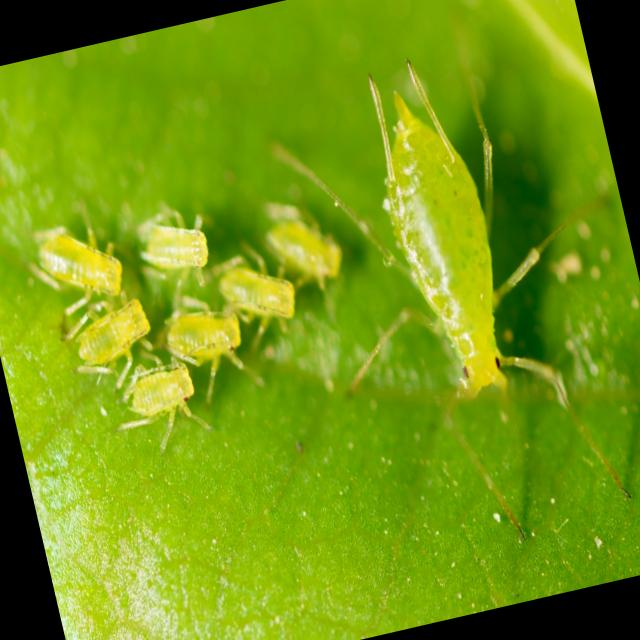Aphids: (309, 24, 612, 479), (118, 180, 231, 312), (18, 198, 134, 319), (202, 240, 314, 350), (103, 346, 220, 449), (146, 284, 255, 394)
